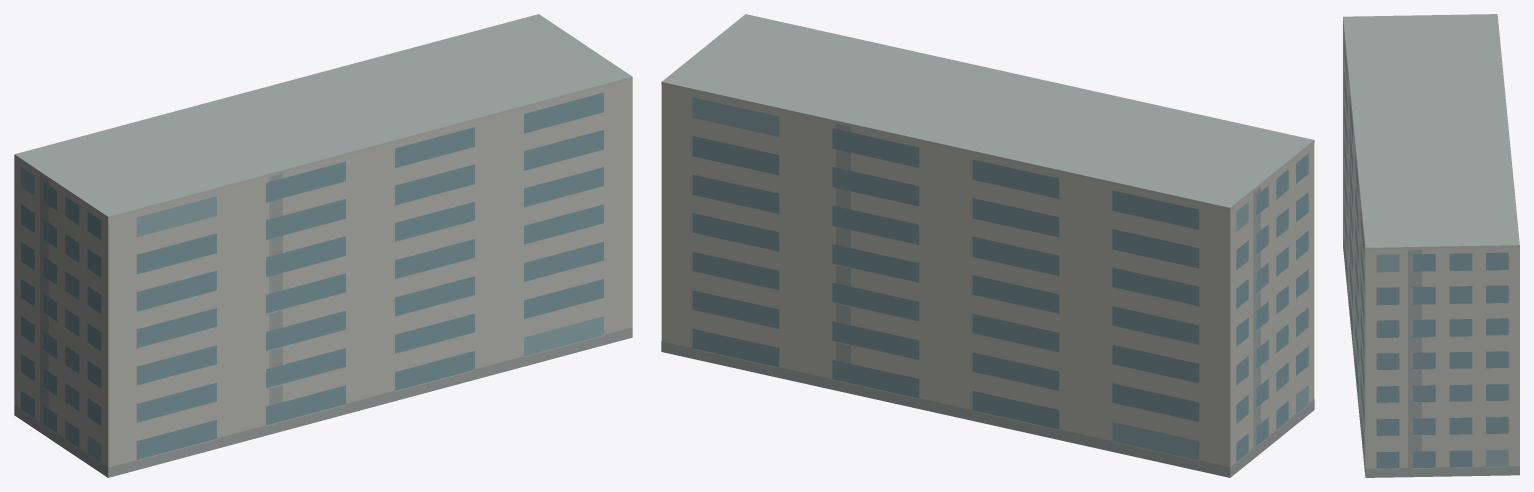
Rendered from residential-cce2d017-d70f-4483-af9d-d7ef67b5e857.glb.
The picture shows the model from 3 angles, left to right: view 1: azimuth 30°, elevation 25°; view 2: azimuth 150°, elevation 25°; view 3: azimuth 270°, elevation 25°; orthographic projection. The views are drawn at different scales.
Visible parts, largest first — view 1: residential-cce2d017-d70f-4483-af9d-d7ef67b5e857.tmp; view 2: residential-cce2d017-d70f-4483-af9d-d7ef67b5e857.tmp; view 3: residential-cce2d017-d70f-4483-af9d-d7ef67b5e857.tmp.
Part boxes in pixels (bbox=[...]): residential-cce2d017-d70f-4483-af9d-d7ef67b5e857.tmp: bbox=[14, 14, 632, 477]; residential-cce2d017-d70f-4483-af9d-d7ef67b5e857.tmp: bbox=[661, 14, 1314, 477]; residential-cce2d017-d70f-4483-af9d-d7ef67b5e857.tmp: bbox=[1343, 14, 1519, 477].
Bounding box in the file's own units: 46.51 × 21.35 × 14.87.
